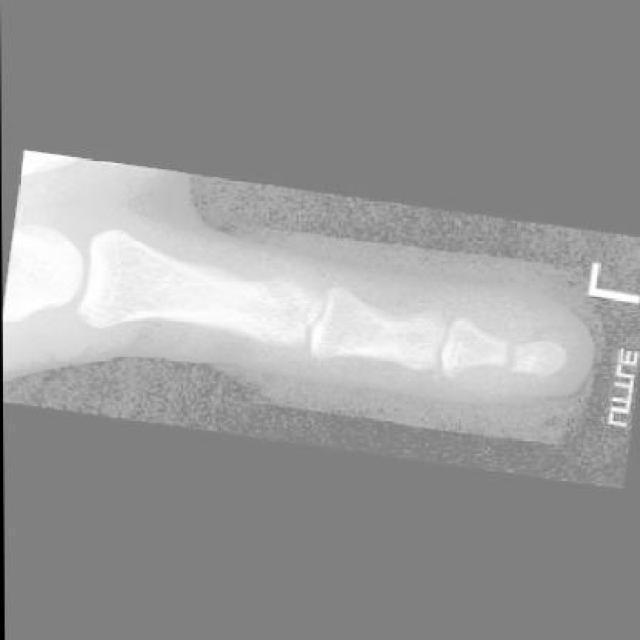Fracture: (486, 337, 525, 380)
